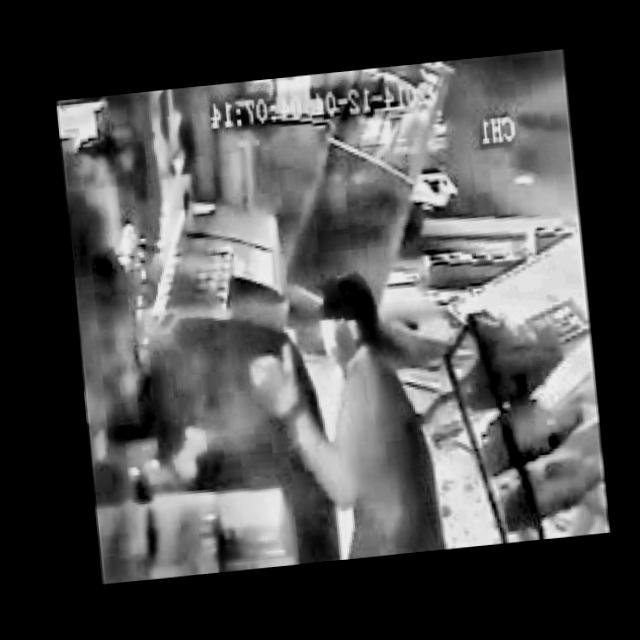burglary: (133, 268, 453, 578)
